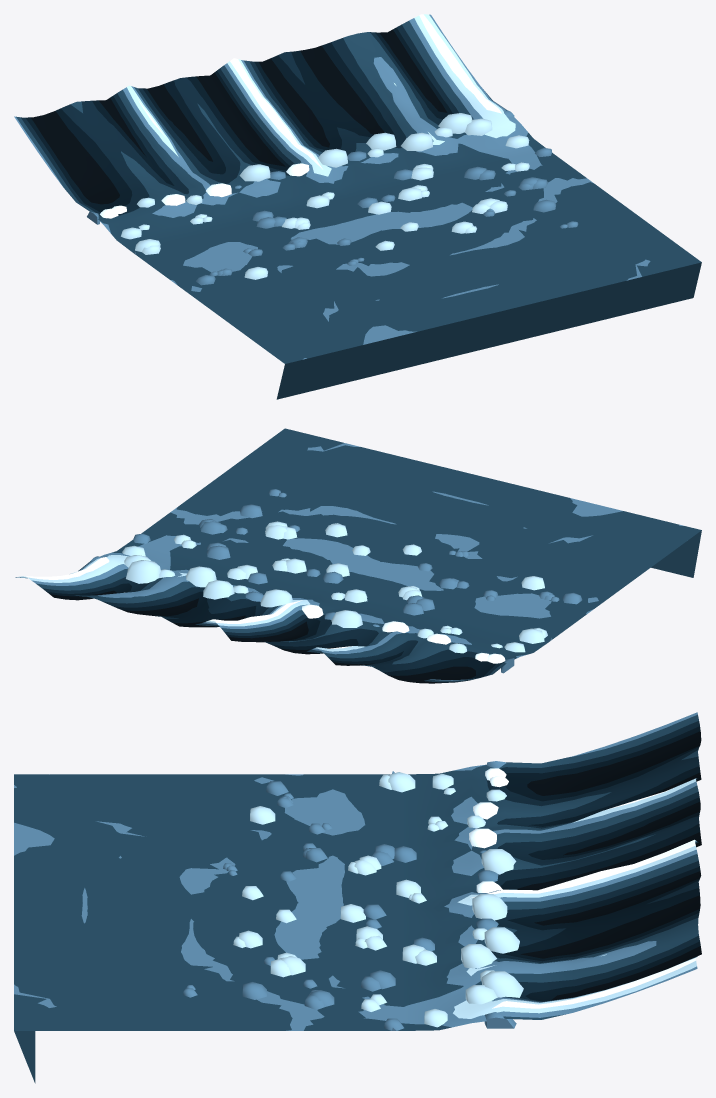
File: torm_fall_bm_280.glb
3 views of the same model, one above another, from view 1: azimuth 30°, elevation 25°; view 2: azimuth 150°, elevation 25°; view 3: azimuth 270°, elevation 25° (orthographic). The views are drawn at different scales.
Visible parts, largest first — view 1: torm_fall_bm_280; view 2: torm_fall_bm_280; view 3: torm_fall_bm_280.
Boxes of the visible parts, left/top/right/bottom form: torm_fall_bm_280: left=14, top=14, right=701, bottom=399; torm_fall_bm_280: left=15, top=428, right=701, bottom=683; torm_fall_bm_280: left=14, top=712, right=701, bottom=1083.
Size of the model in its own units: 24 by 5.33 by 27.19.
